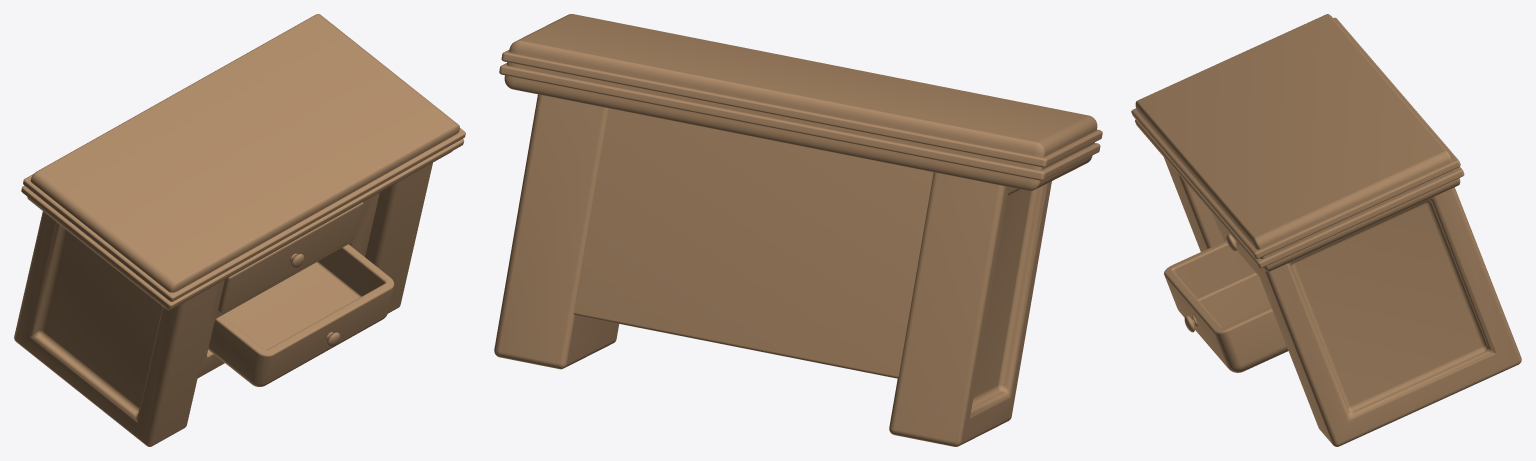
Rendered from nightstand-library-v0.glb.
3 views of the same model, side by side, from view 1: azimuth 30°, elevation 25°; view 2: azimuth 150°, elevation 25°; view 3: azimuth 270°, elevation 25° (orthographic). The views are drawn at different scales.
Visible parts, largest first — view 1: Cube.126, Cube.127, Cube.131, Cube.130, Cube.129, Cube.128; view 2: Cube.128, Cube.127, Cube.126, Cube.130; view 3: Cube.126, Cube.127, Cube.131, Cube.130.
Part boxes in pixels (x1,y1,x2,y2): Cube.126: (27, 14, 459, 310); Cube.127: (14, 163, 432, 446); Cube.131: (208, 244, 394, 386); Cube.130: (21, 128, 465, 309); Cube.129: (218, 202, 363, 312); Cube.128: (197, 192, 379, 377); Cube.128: (573, 108, 933, 378); Cube.127: (494, 94, 1051, 446); Cube.126: (504, 14, 1097, 190); Cube.130: (499, 50, 1102, 180); Cube.126: (1135, 14, 1460, 271); Cube.127: (1164, 157, 1521, 446); Cube.131: (1164, 240, 1288, 372); Cube.130: (1131, 17, 1464, 268).
Size of the model in its own units: 1.8 by 1.25 by 1.41.
